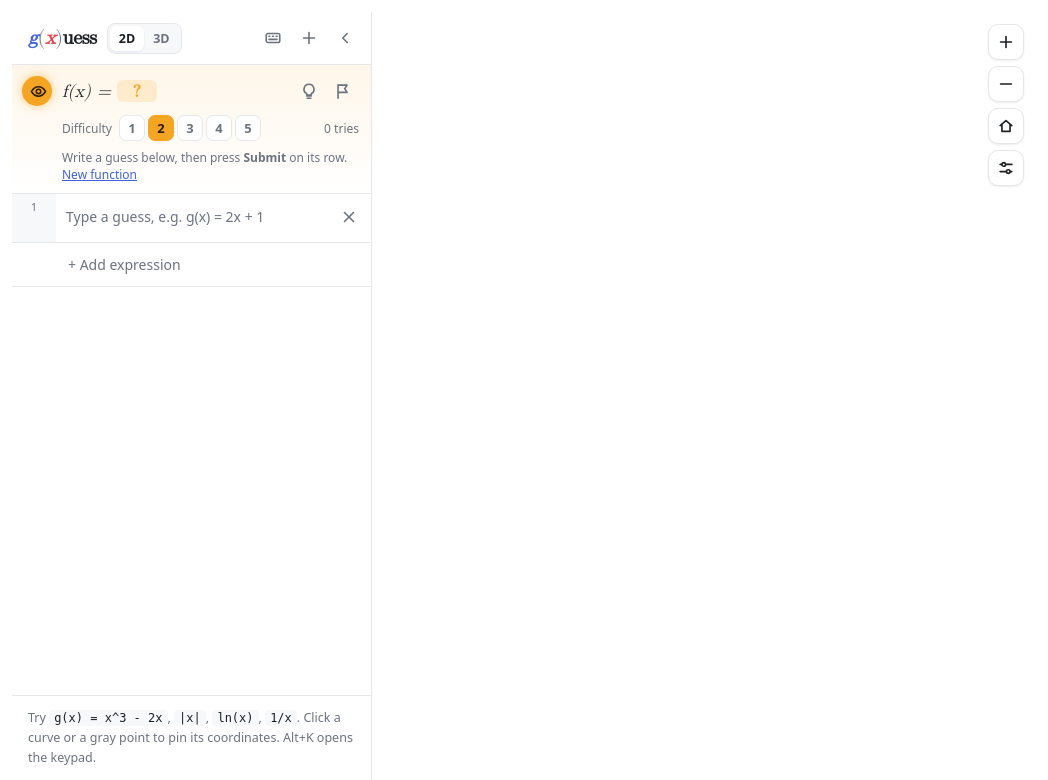
Test: variable sliders › shows a slider for name = number rows and updates the row when dragged
This screenshot has width=1048, height=780.
Later steps or results of the test are not shown.
In the field named "Expression 1": (198, 217) 66,198 -> 331,236, type "a = 2"
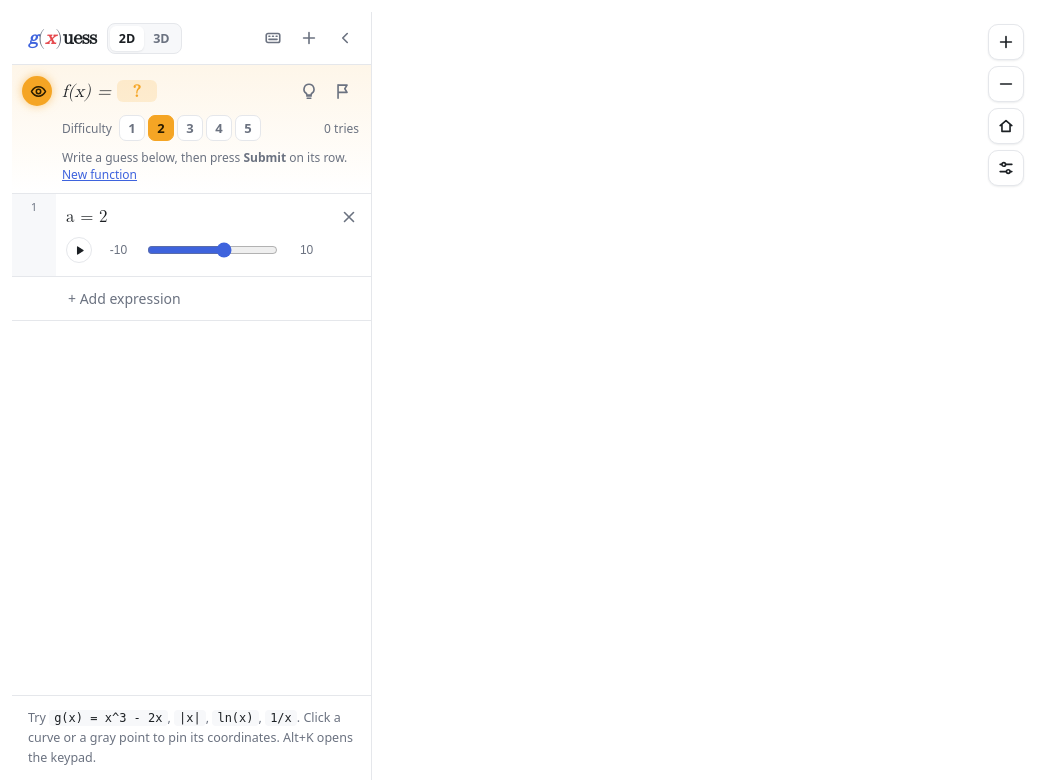
Result: the slider named "a" holds "2"
Set the slider named "a" to "3.5": (233, 250) 147,238 -> 278,262
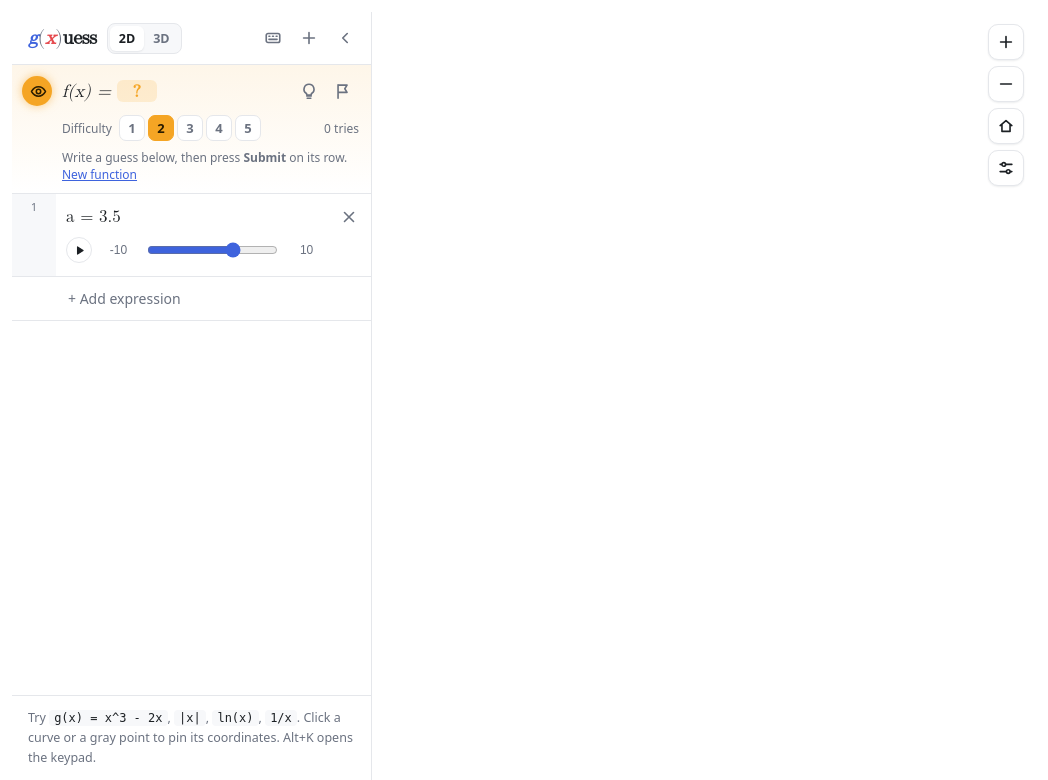
Result: the field named "Expression 1" holds "a = 3.5" at 66,198 -> 331,236
